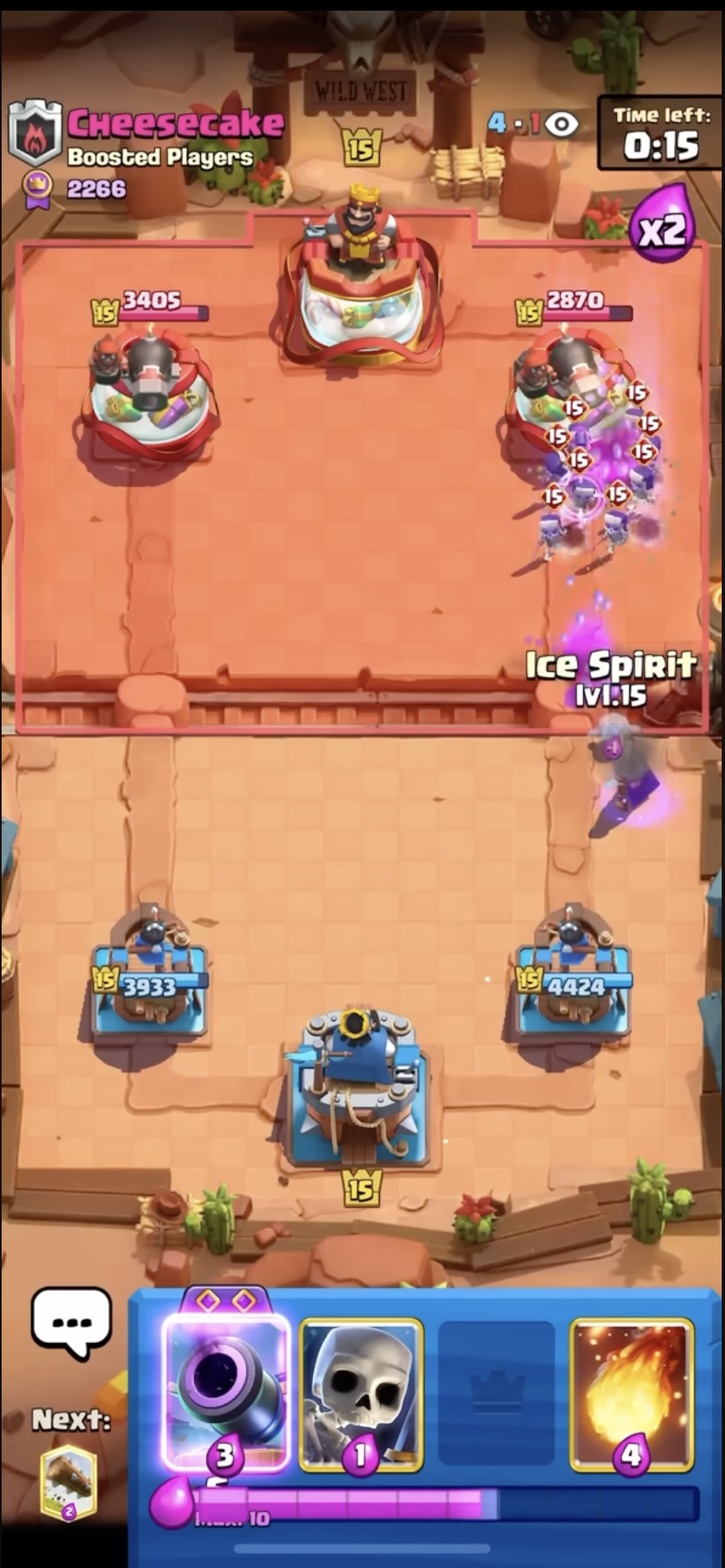evo_musketeer: (590, 717, 681, 848)
